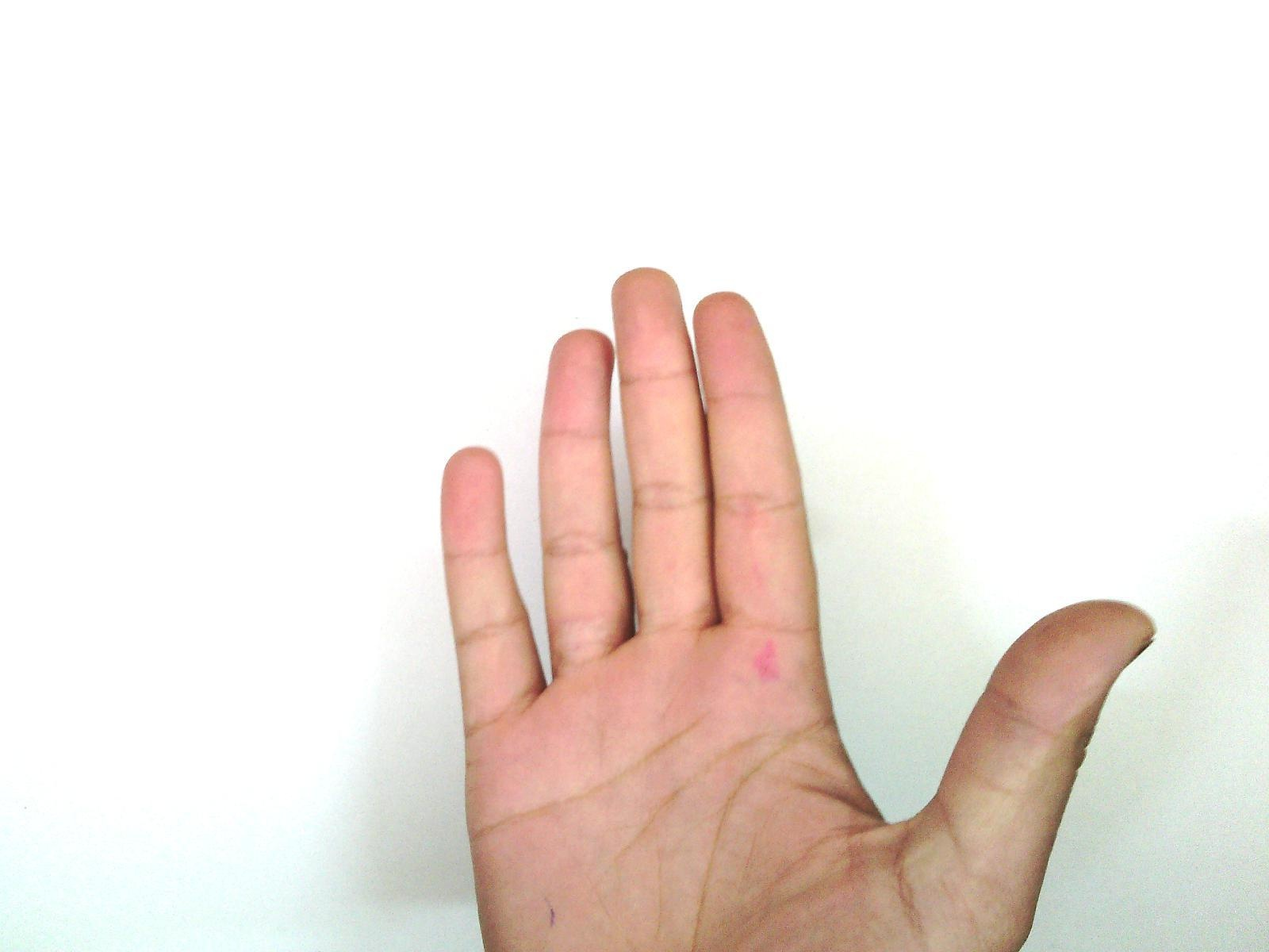open_palm: (435, 266, 1158, 951)
